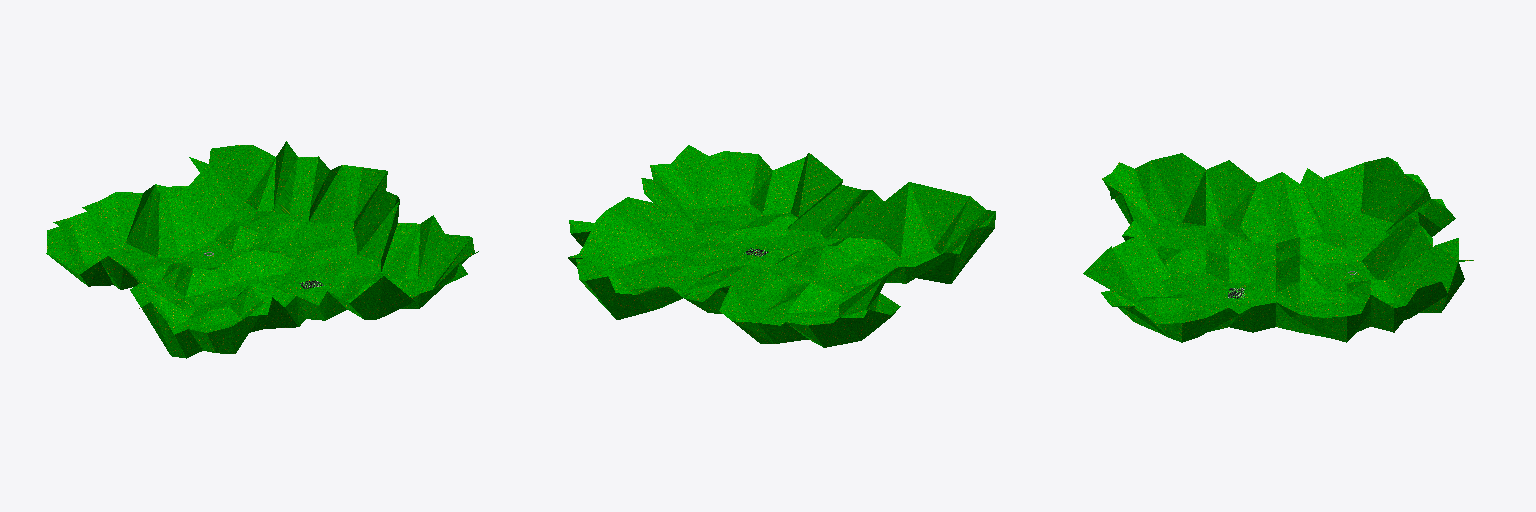
The picture shows the model from 3 angles: view 1: azimuth 30°, elevation 25°; view 2: azimuth 150°, elevation 25°; view 3: azimuth 270°, elevation 25°; orthographic projection.
Parts seen in each view (by area): view 1: terrain; view 2: terrain; view 3: terrain.
Part boxes in pixels (left/top/right/bottom): terrain: left=46, top=141, right=478, bottom=358; terrain: left=568, top=145, right=995, bottom=347; terrain: left=1083, top=153, right=1473, bottom=342.
Size of the model in its own units: 8082 by 1467 by 8264.
15 materials, 4 textured.